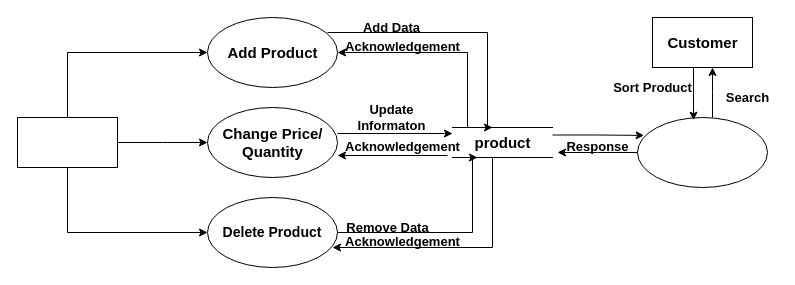
The diagram is 795 pixels wide and 285 high, and some of its shapes have lost their labels. Each missing label, with the centre of its shape:
"ADMIN" goes at point 67,142.
"Search 3.0" goes at point 702,152.
